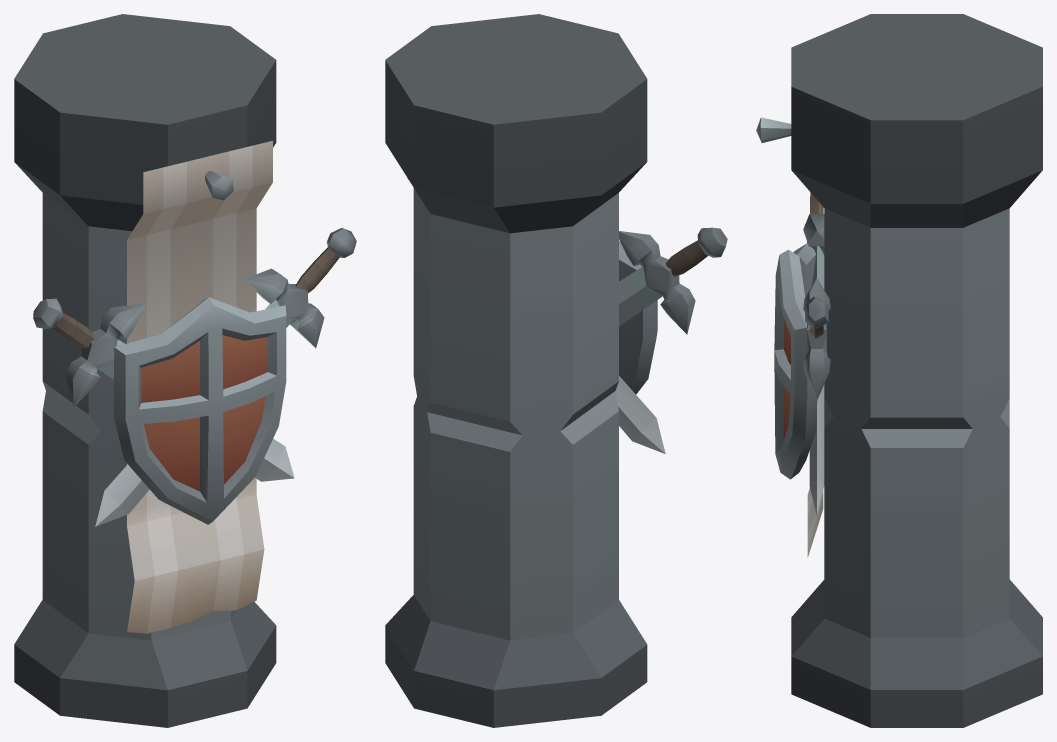
File: pillar_decorated.glb
3 views of the same model, side by side, from view 1: azimuth 30°, elevation 25°; view 2: azimuth 150°, elevation 25°; view 3: azimuth 270°, elevation 25° (orthographic).
Parts seen in each view (by area): view 1: pillar_decorated; view 2: pillar_decorated; view 3: pillar_decorated.
Boxes of the visible parts, <box> form: pillar_decorated: <box>14,14,356,727</box>; pillar_decorated: <box>385,14,727,727</box>; pillar_decorated: <box>756,14,1042,727</box>.
Bounding box in the file's own units: 2.23 × 4 × 1.71.
Materials: 1 (1 with a texture image).
